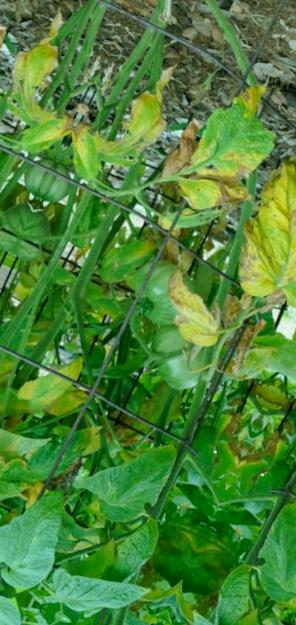Tomato Early blight leaf: (153, 60, 296, 226), (56, 45, 191, 200), (217, 161, 296, 312), (0, 466, 85, 597), (142, 253, 240, 355), (14, 339, 87, 419)
Tomato leaf: (77, 423, 181, 539), (43, 555, 145, 625)
